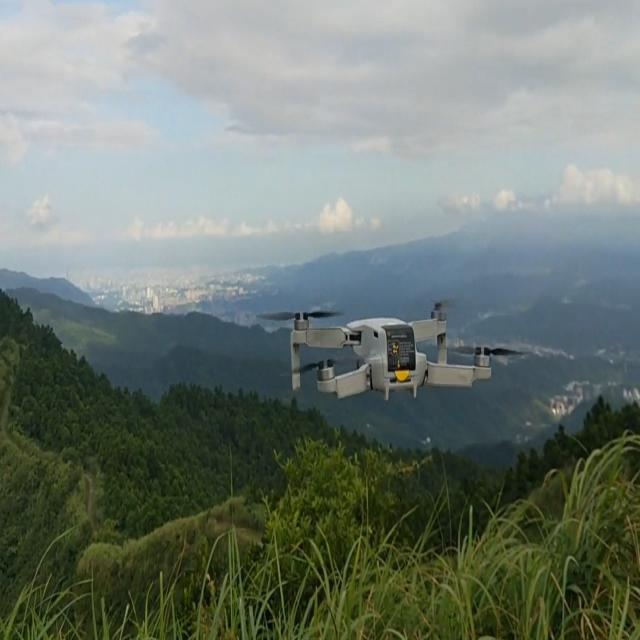Drone: (246, 263, 498, 453)
